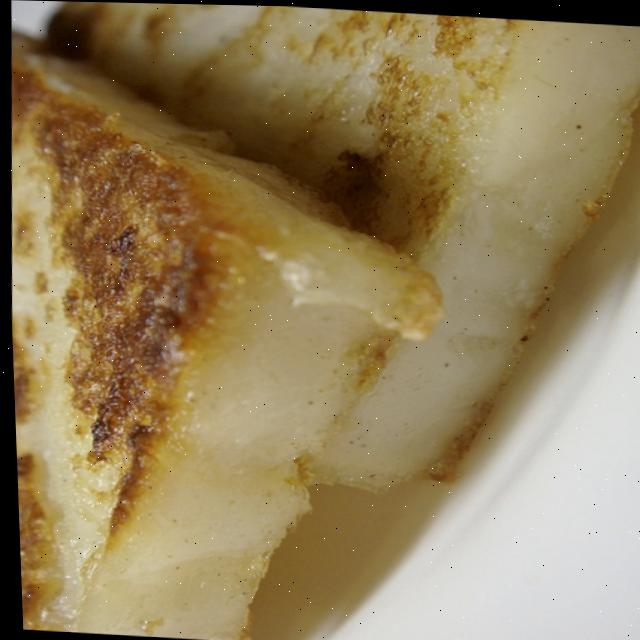蛋糕甜品: (4, 0, 626, 640)
